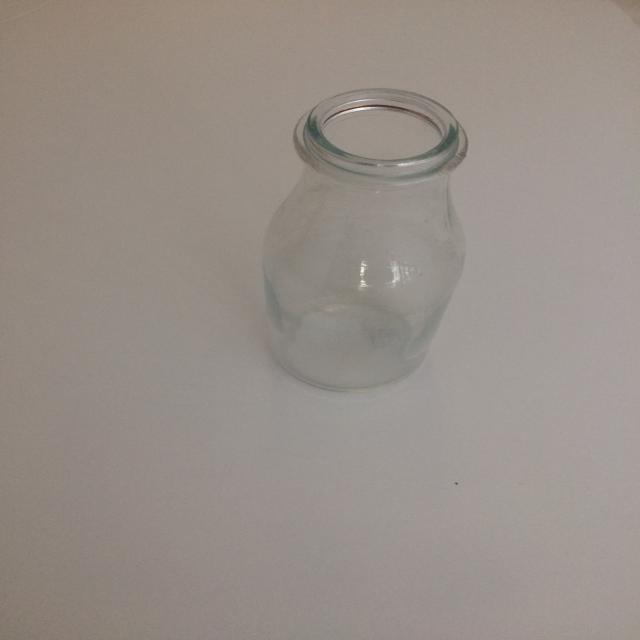glass: (260, 88, 473, 398)
